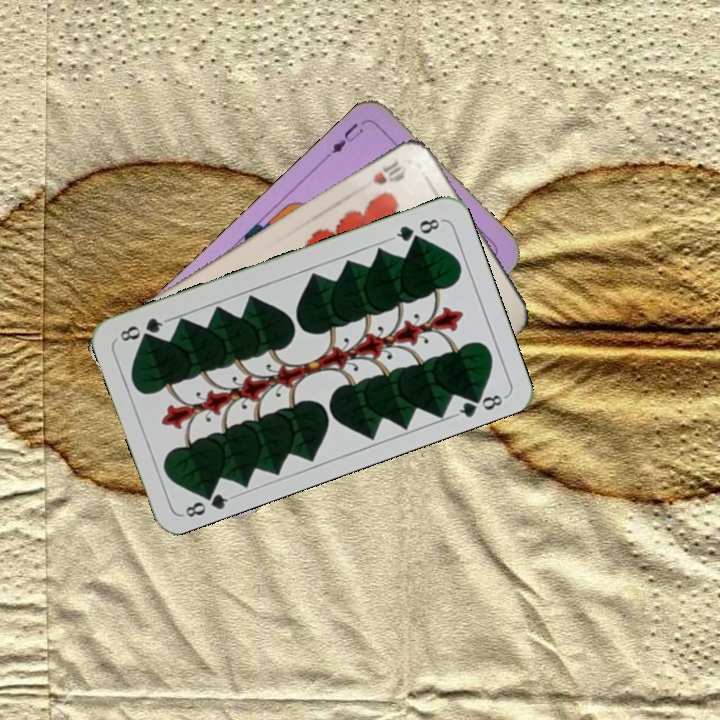EU: (321, 118, 366, 161)
G8: (179, 484, 236, 520), (388, 214, 445, 244)
H10: (368, 154, 409, 188)
